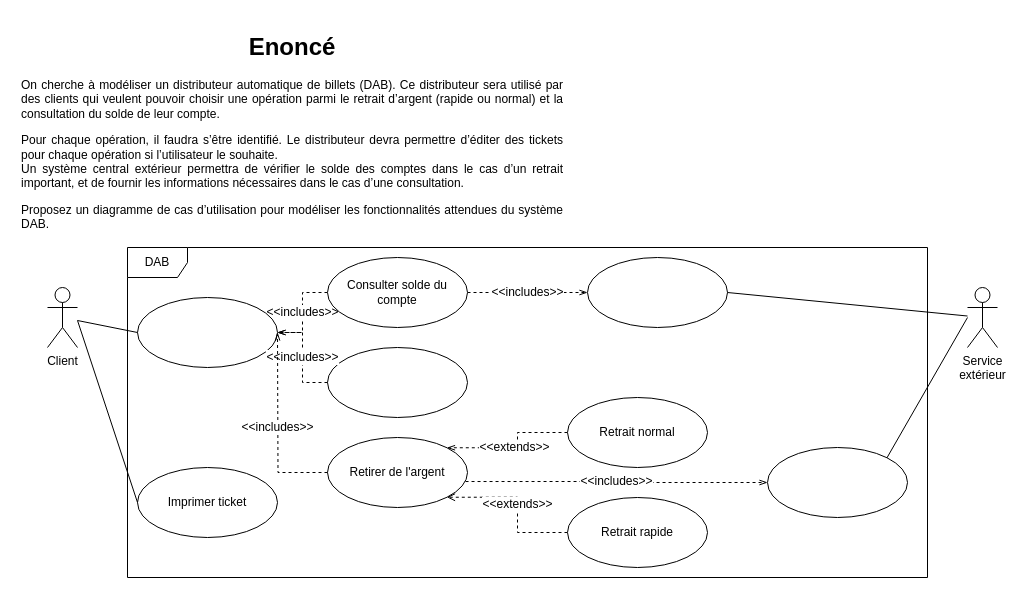
The diagram is 1023 pixels wide and 595 high, and some of its shapes have lost their labels. The shapes that lost their labels are listed below. From the top down, each one's centre as x and y in pixels, then its label:
the point at 657,292: Fournir informations consultation
the point at 207,332: S'identifier
the point at 397,382: Éditer des tickets
the point at 837,482: Vérification validité opération
